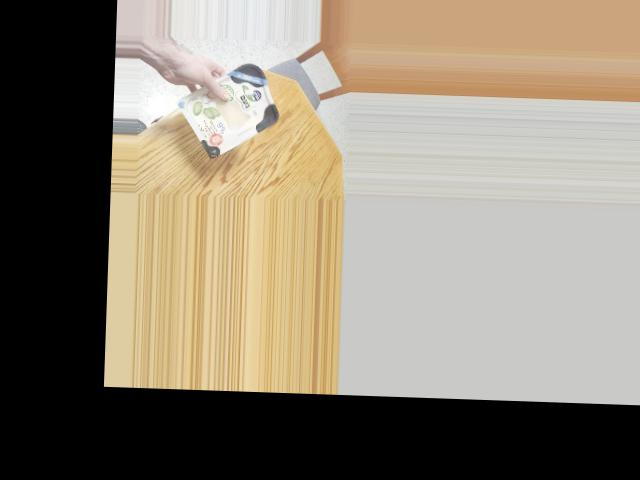cheese: (189, 61, 288, 152)
